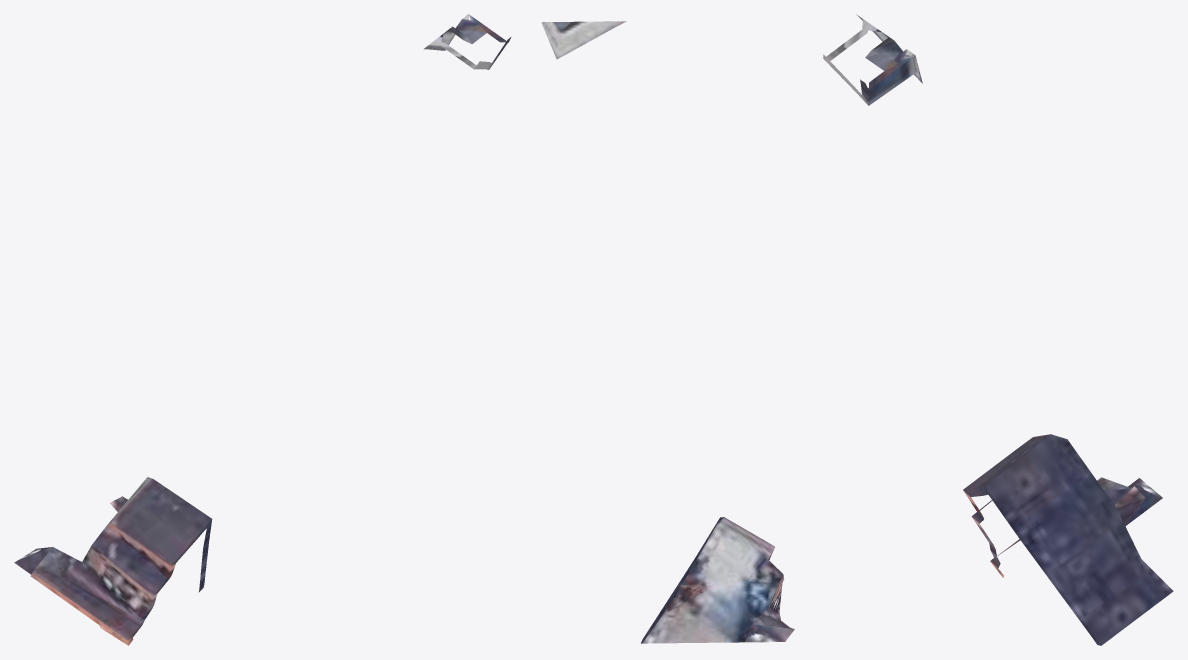
3 views of the same model, side by side, from view 1: azimuth 30°, elevation 25°; view 2: azimuth 150°, elevation 25°; view 3: azimuth 270°, elevation 25° (orthographic). The views are drawn at different scales.
Bounding box in the file's own units: 48.91 × 71.6 × 32.34.
1 material, 1 textured.
